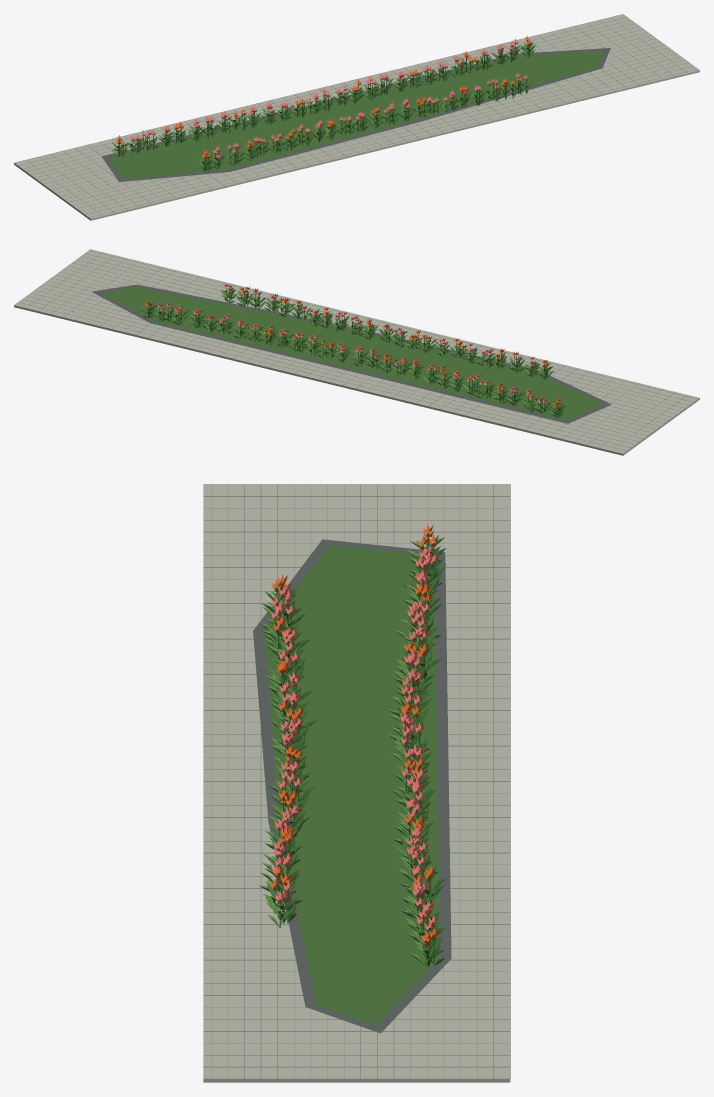
The model's file is clock_garden.glb.
The picture shows the model from 3 angles, top to bottom: view 1: azimuth 30°, elevation 25°; view 2: azimuth 150°, elevation 25°; view 3: azimuth 270°, elevation 25°; orthographic projection. The views are drawn at different scales.
Visible parts, largest first — view 1: GreySlabGardenSurround, ClockGardenLivingLawn, LongBroadFoldedCannaLeaves, GardenSlabJointGrid, AsymmetricCannaFlowerPetals, ClockGardenDarkStoneCurb, UprightCannaStems, CannaLeafCentralRibs; view 2: GreySlabGardenSurround, ClockGardenLivingLawn, LongBroadFoldedCannaLeaves, GardenSlabJointGrid, ClockGardenDarkStoneCurb, AsymmetricCannaFlowerPetals, UprightCannaStems, CannaLeafCentralRibs; view 3: GreySlabGardenSurround, ClockGardenLivingLawn, GardenSlabJointGrid, LongBroadFoldedCannaLeaves, ClockGardenDarkStoneCurb, AsymmetricCannaFlowerPetals, UprightCannaStems, CannaLeafCentralRibs.
Boxes of the visible parts, box(x1,y1,x2,y2) form: GreySlabGardenSurround: box(14, 14, 699, 220); ClockGardenLivingLawn: box(108, 50, 603, 179); LongBroadFoldedCannaLeaves: box(111, 42, 535, 170); GardenSlabJointGrid: box(14, 14, 698, 218); AsymmetricCannaFlowerPetals: box(116, 36, 531, 159); ClockGardenDarkStoneCurb: box(101, 48, 610, 181); UprightCannaStems: box(118, 44, 529, 171); CannaLeafCentralRibs: box(114, 47, 532, 171); GreySlabGardenSurround: box(14, 249, 699, 455); ClockGardenLivingLawn: box(101, 287, 603, 420); LongBroadFoldedCannaLeaves: box(139, 288, 565, 417); GardenSlabJointGrid: box(14, 249, 699, 453); ClockGardenDarkStoneCurb: box(92, 284, 611, 423); AsymmetricCannaFlowerPetals: box(145, 283, 562, 406); UprightCannaStems: box(147, 288, 559, 417); CannaLeafCentralRibs: box(144, 291, 562, 417); GreySlabGardenSurround: box(203, 484, 510, 1082); ClockGardenLivingLawn: box(264, 545, 440, 1025); GardenSlabJointGrid: box(203, 484, 510, 1078); LongBroadFoldedCannaLeaves: box(258, 536, 447, 966); ClockGardenDarkStoneCurb: box(253, 539, 451, 1033); AsymmetricCannaFlowerPetals: box(270, 524, 439, 946); UprightCannaStems: box(274, 536, 434, 965); CannaLeafCentralRibs: box(267, 541, 439, 964).
Size of the model in its own units: 55.02 by 2.01 by 12.01.
